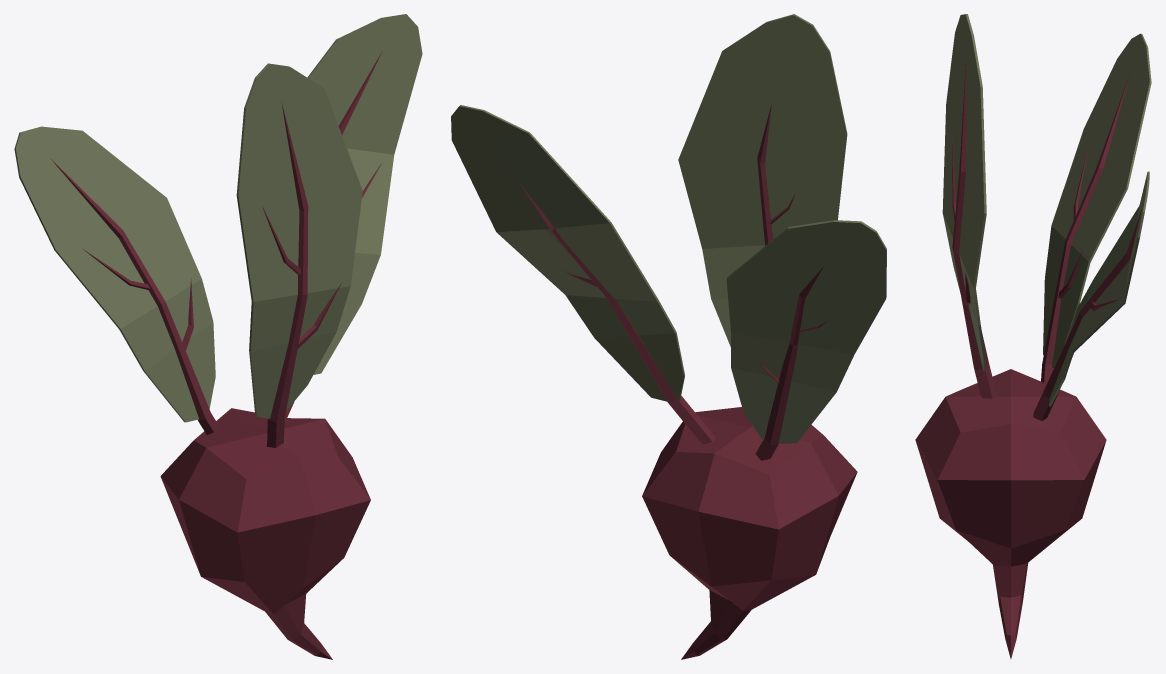
The model's file is Beet_4.glb.
3 views of the same model, side by side, from view 1: azimuth 30°, elevation 25°; view 2: azimuth 150°, elevation 25°; view 3: azimuth 270°, elevation 25° (orthographic). The views are drawn at different scales.
Parts seen in each view (by area): view 1: Beet_4; view 2: Beet_4; view 3: Beet_4.
Part boxes in pixels (x1,y1,x2,y2): Beet_4: [14, 14, 422, 659]; Beet_4: [451, 14, 886, 659]; Beet_4: [915, 14, 1151, 658].
Size of the model in its own units: 0.7512 by 1.1 by 0.3899.
